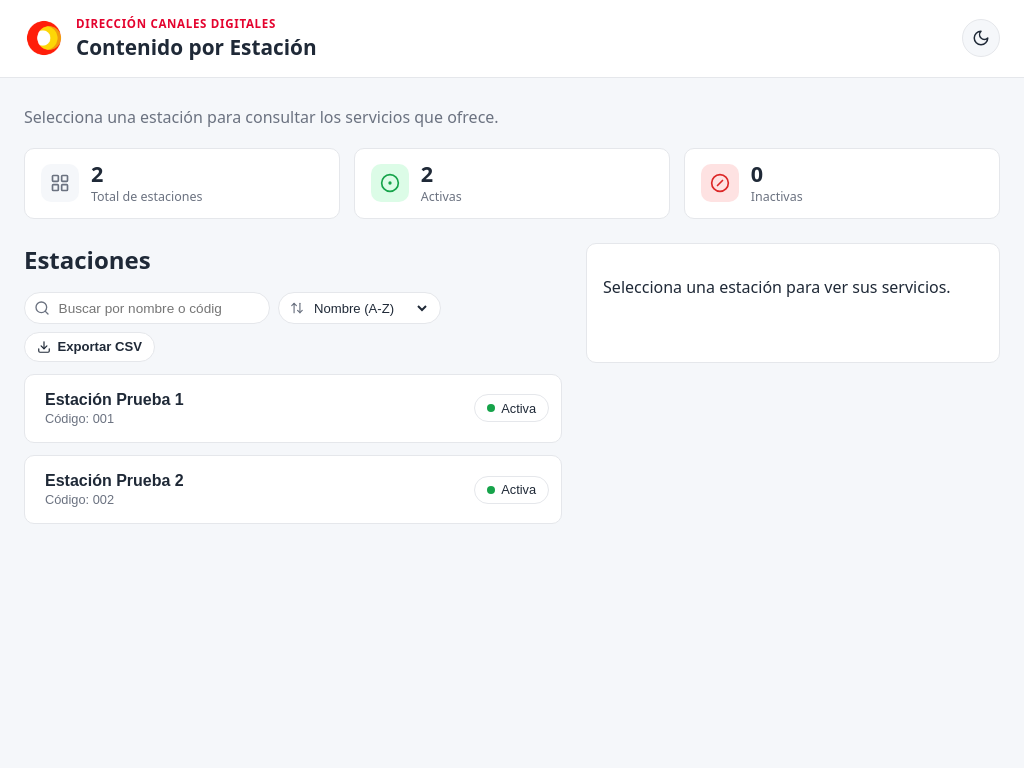
<StationsPage /> (integración) › muestra un toast de error si la actualización de estado falla
The image size is (1024, 768).
Expected: the heading "Estación Prueba 1" is shown, top-left (45, 391), bottom-right (184, 408)
Click the 1st switch labelled "Activa": (511, 408) top-left (474, 394), bottom-right (549, 422)
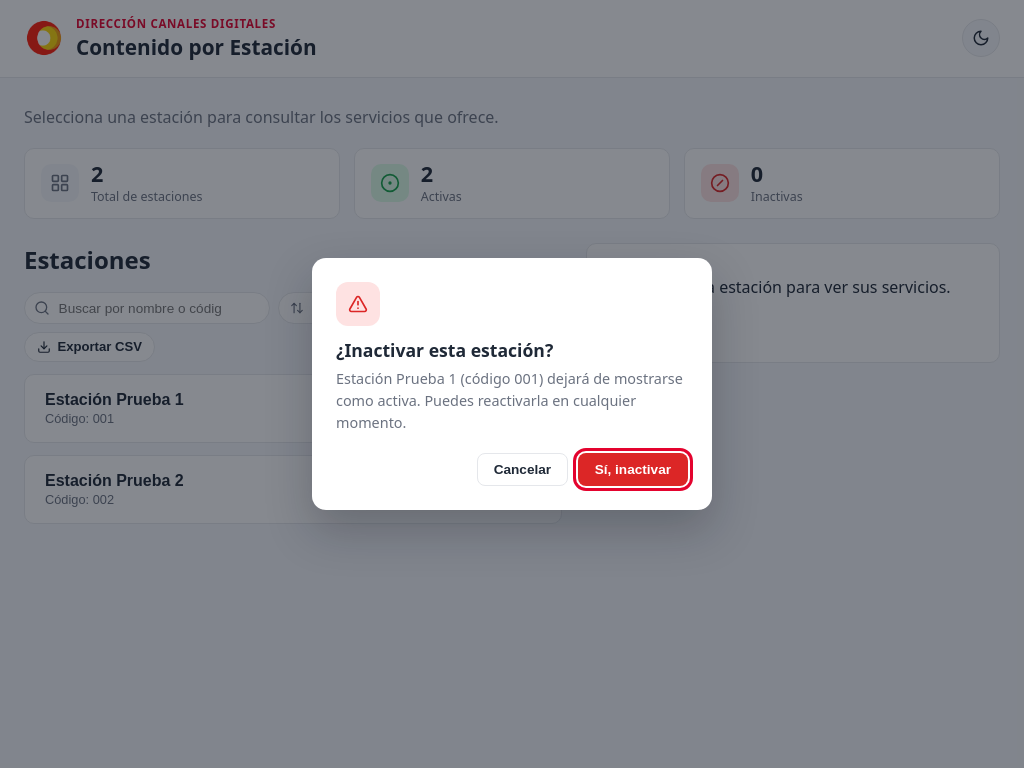
Click the button "Sí, inactivar": (633, 470) top-left (578, 453), bottom-right (688, 486)
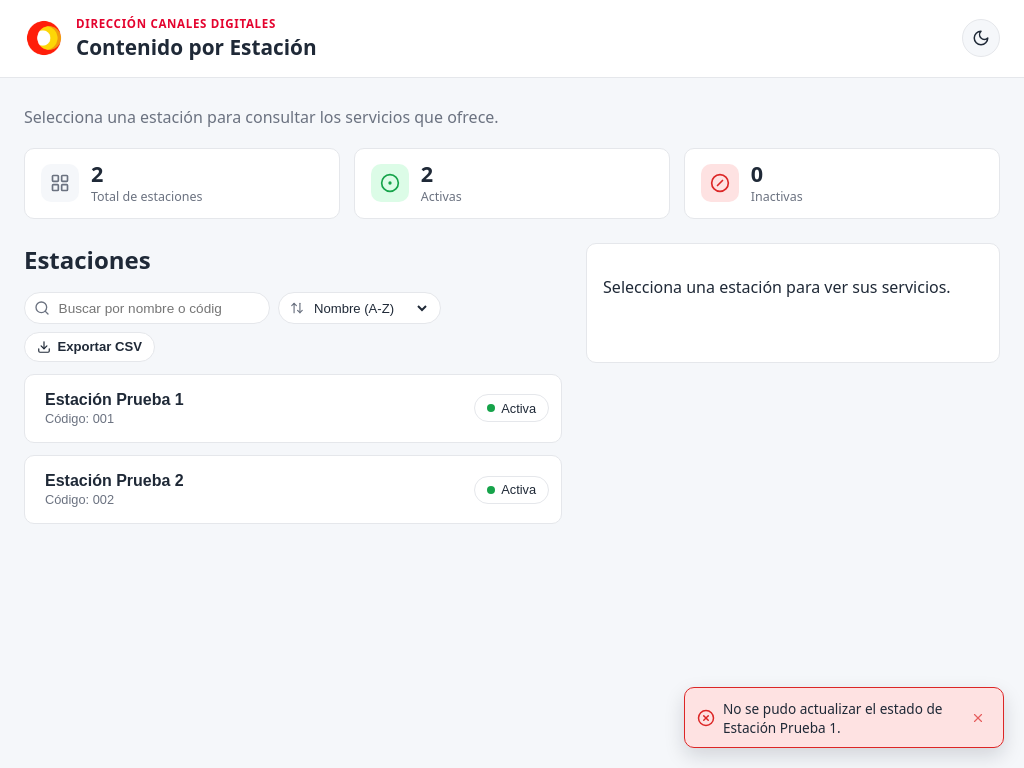
Result: the text "No se pudo actualizar el estado de Estación Prueba 1." is shown at top-left (723, 699), bottom-right (942, 737)
